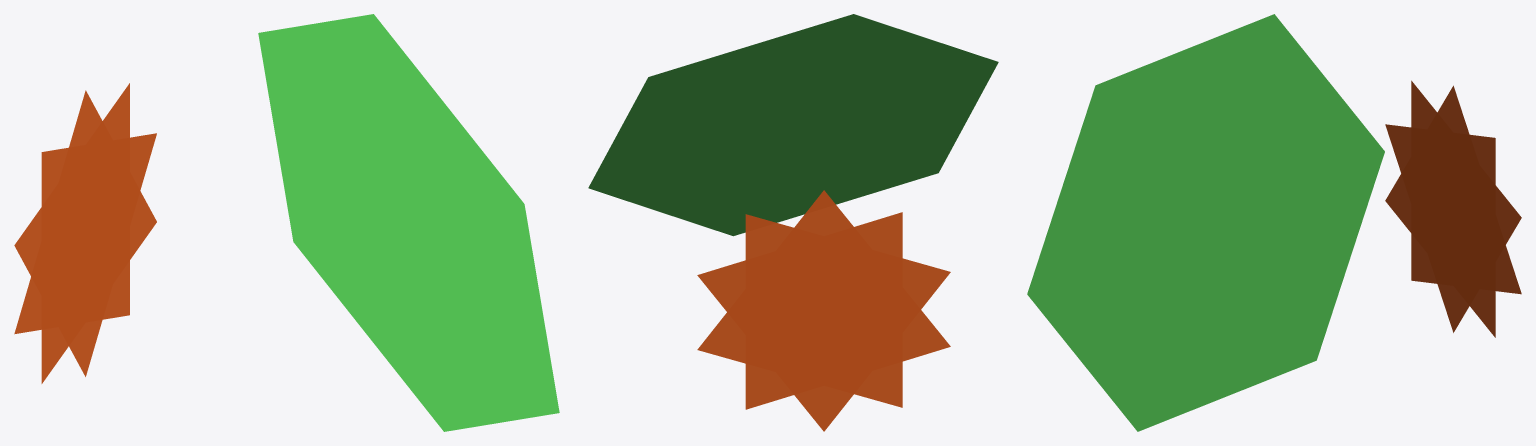
Rendered from GreatDodecicosahedronF.obj.
The picture shows the model from 3 angles, left to right: view 1: azimuth 30°, elevation 25°; view 2: azimuth 150°, elevation 25°; view 3: azimuth 270°, elevation 25°; orthographic projection. The views are drawn at different scales.
Size of the model in its own units: 2.12 by 1.74 by 2.24.
